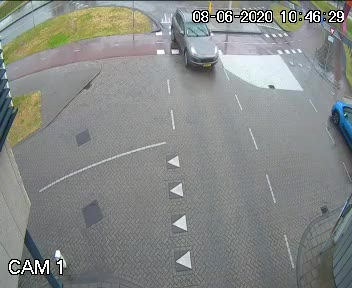car: (164, 5, 229, 74)
